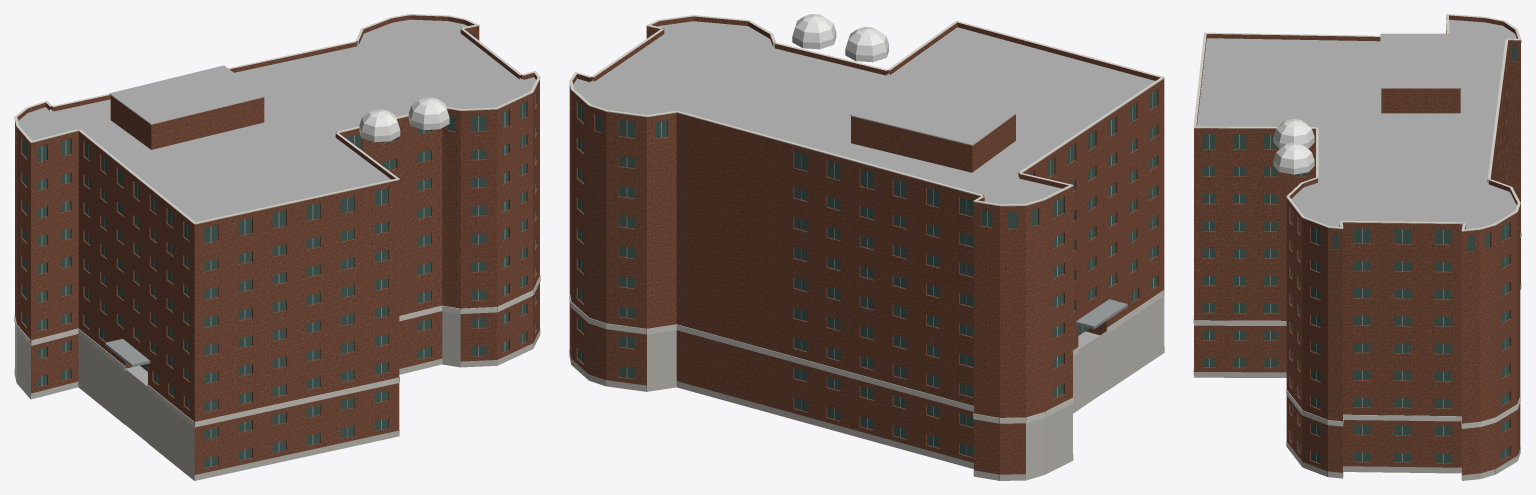
3 renders of one model, left to right at view 1: azimuth 30°, elevation 25°; view 2: azimuth 150°, elevation 25°; view 3: azimuth 270°, elevation 25°, orthographic. The views are drawn at different scales.
Visible parts, largest first — view 1: artCenter__wall, artCenter__roof, artCenter__glass, artCenter__base, artCenter__trim, artCenter__parapet, artCenter__frame, artCenter__dome, artCenter__canopy; view 2: artCenter__wall, artCenter__roof, artCenter__glass, artCenter__base, artCenter__trim, artCenter__parapet, artCenter__dome, artCenter__frame, artCenter__canopy; view 3: artCenter__wall, artCenter__roof, artCenter__glass, artCenter__trim, artCenter__parapet, artCenter__base, artCenter__dome, artCenter__frame.
Part boxes in pixels (<box>): artCenter__wall: <box>15,29,539,474</box>; artCenter__roof: <box>18,19,535,385</box>; artCenter__glass: <box>22,33,536,467</box>; artCenter__base: <box>14,311,540,480</box>; artCenter__trim: <box>14,14,540,427</box>; artCenter__parapet: <box>15,15,539,227</box>; artCenter__frame: <box>41,94,535,466</box>; artCenter__dome: <box>359,97,449,142</box>; artCenter__canopy: <box>105,339,150,367</box>; artCenter__wall: <box>569,30,1164,480</box>; artCenter__roof: <box>573,21,1154,348</box>; artCenter__glass: <box>578,33,1157,457</box>; artCenter__base: <box>569,296,1164,480</box>; artCenter__trim: <box>569,15,1164,423</box>; artCenter__parapet: <box>569,16,1164,209</box>; artCenter__dome: <box>792,14,888,62</box>; artCenter__frame: <box>581,92,1153,455</box>; artCenter__canopy: <box>1075,299,1127,328</box>; artCenter__wall: <box>1194,24,1520,476</box>; artCenter__roof: <box>1197,19,1516,229</box>; artCenter__glass: <box>1202,46,1517,463</box>; artCenter__trim: <box>1193,14,1521,428</box>; artCenter__parapet: <box>1194,15,1521,234</box>; artCenter__base: <box>1193,283,1521,480</box>; artCenter__dome: <box>1273,119,1314,174</box>; artCenter__frame: <box>1209,134,1505,462</box>.
Size of the model in its own units: 64.76 by 37.8 by 41.41.
10 materials, 2 textured.
